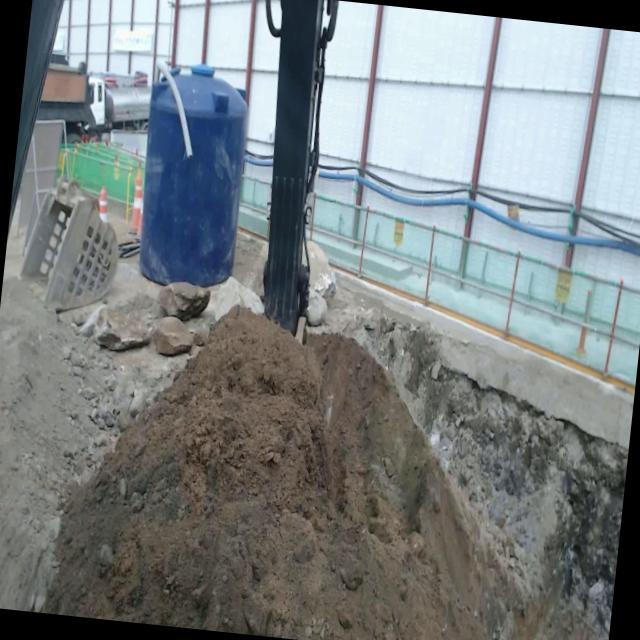red-sand: (44, 308, 593, 640)
stone: (78, 294, 159, 350), (213, 276, 263, 321), (158, 282, 210, 320), (151, 316, 193, 355)
white-sand: (0, 279, 104, 612)
